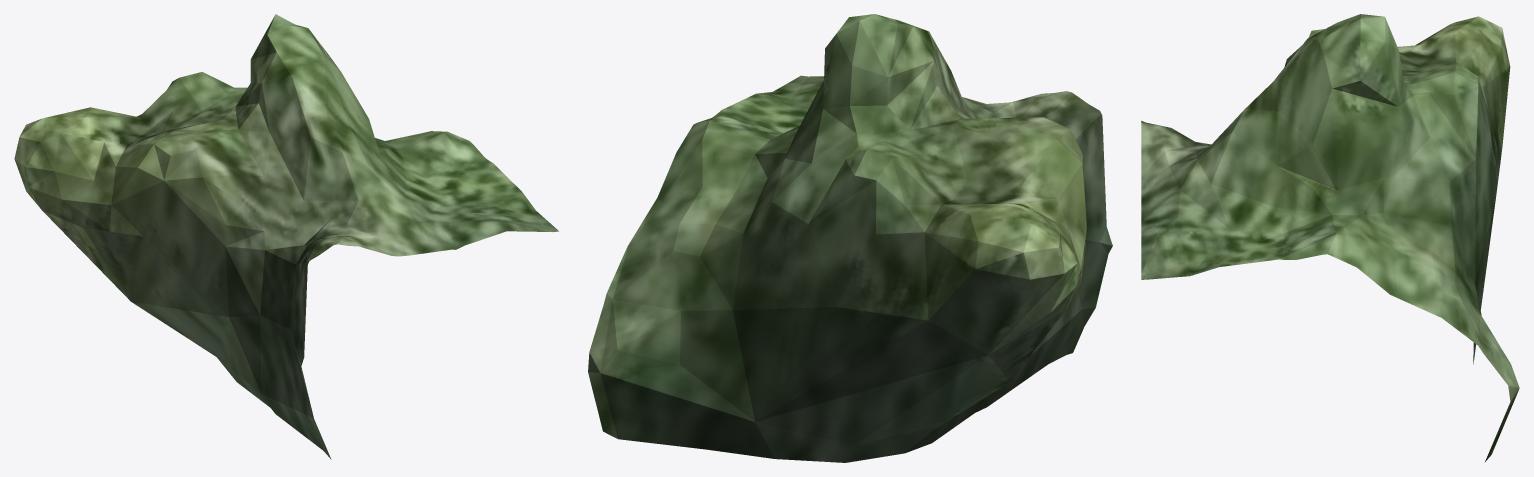
3 views of the same model, side by side, from view 1: azimuth 30°, elevation 25°; view 2: azimuth 150°, elevation 25°; view 3: azimuth 270°, elevation 25° (orthographic). The views are drawn at different scales.
Size of the model in its own units: 1.5 by 1.31 by 1.24.
Materials: 1 (1 with a texture image).
